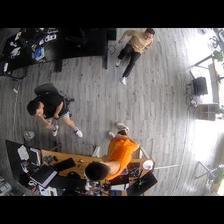fall: (116, 28, 153, 87)
normal: (85, 121, 138, 184), (27, 85, 83, 138)
